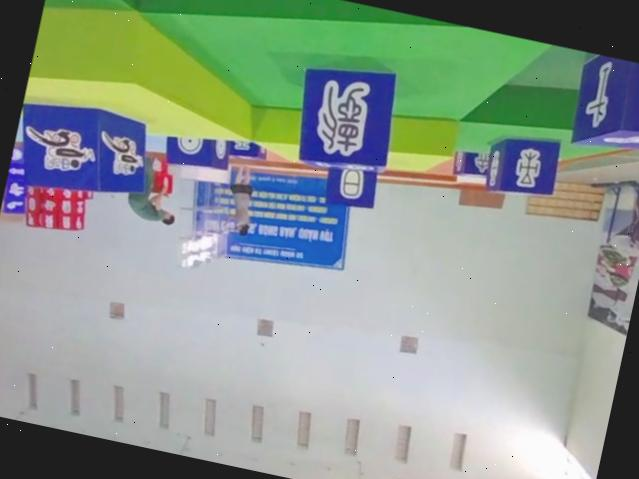R1 Blue: (6, 91, 156, 208)
R2 Fake Blue: (289, 52, 409, 179), (322, 161, 383, 214), (449, 148, 491, 183)
R2 Real Blue: (564, 50, 639, 160), (483, 124, 567, 203), (164, 124, 238, 174)
